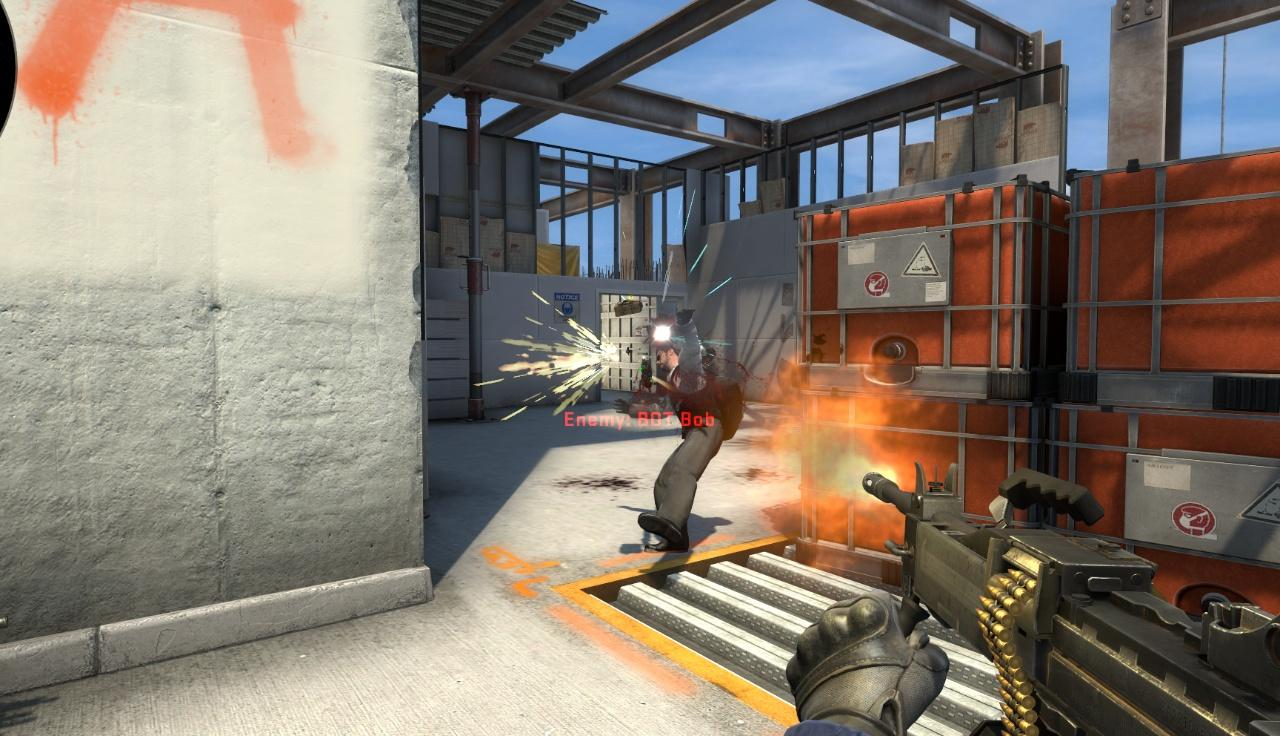rifle: (844, 464, 1280, 735)
